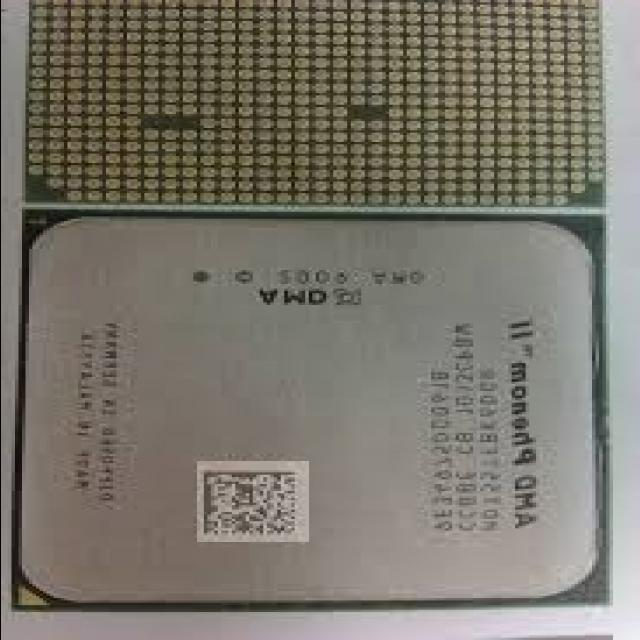DataMatrix: (196, 461, 308, 542)
